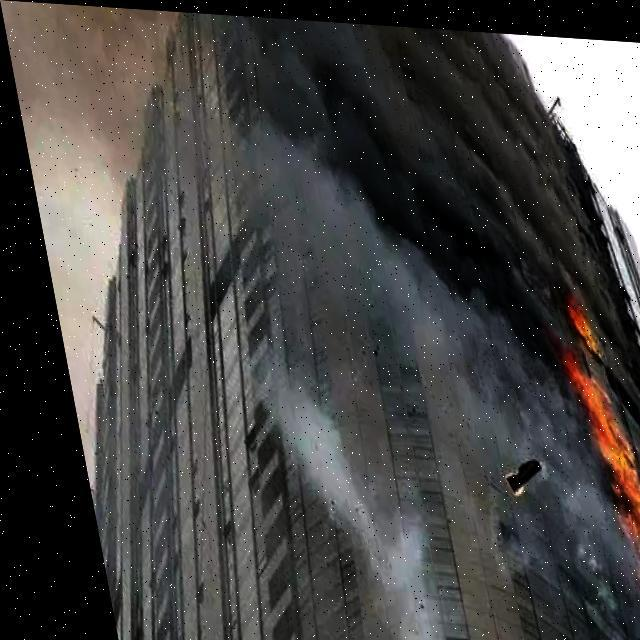Fire: (523, 268, 639, 631)
